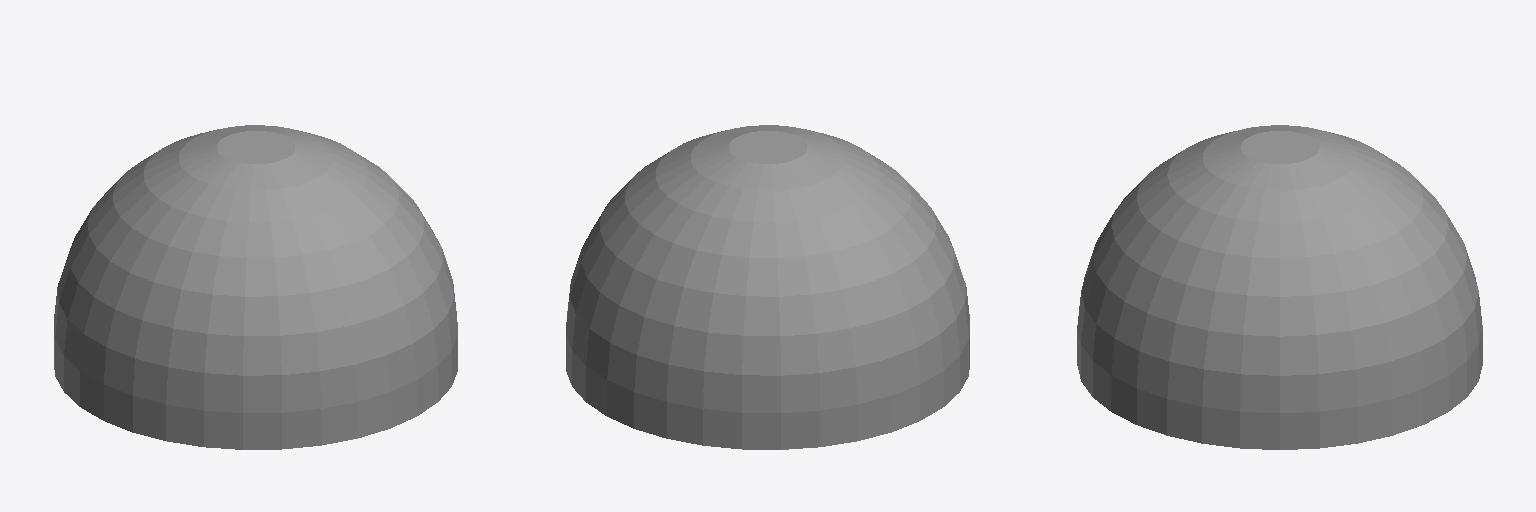
The model's file is skydome.obj.
3 renders of one model, left to right at view 1: azimuth 30°, elevation 25°; view 2: azimuth 150°, elevation 25°; view 3: azimuth 270°, elevation 25°, orthographic.
Parts seen in each view (by area): view 1: Sphere; view 2: Sphere; view 3: Sphere.
Boxes of the visible parts, x1,y1,x2,y2 form: Sphere: [54, 125, 457, 449]; Sphere: [566, 125, 969, 449]; Sphere: [1077, 125, 1482, 449].
Size of the model in its own units: 2 by 1.18 by 2.